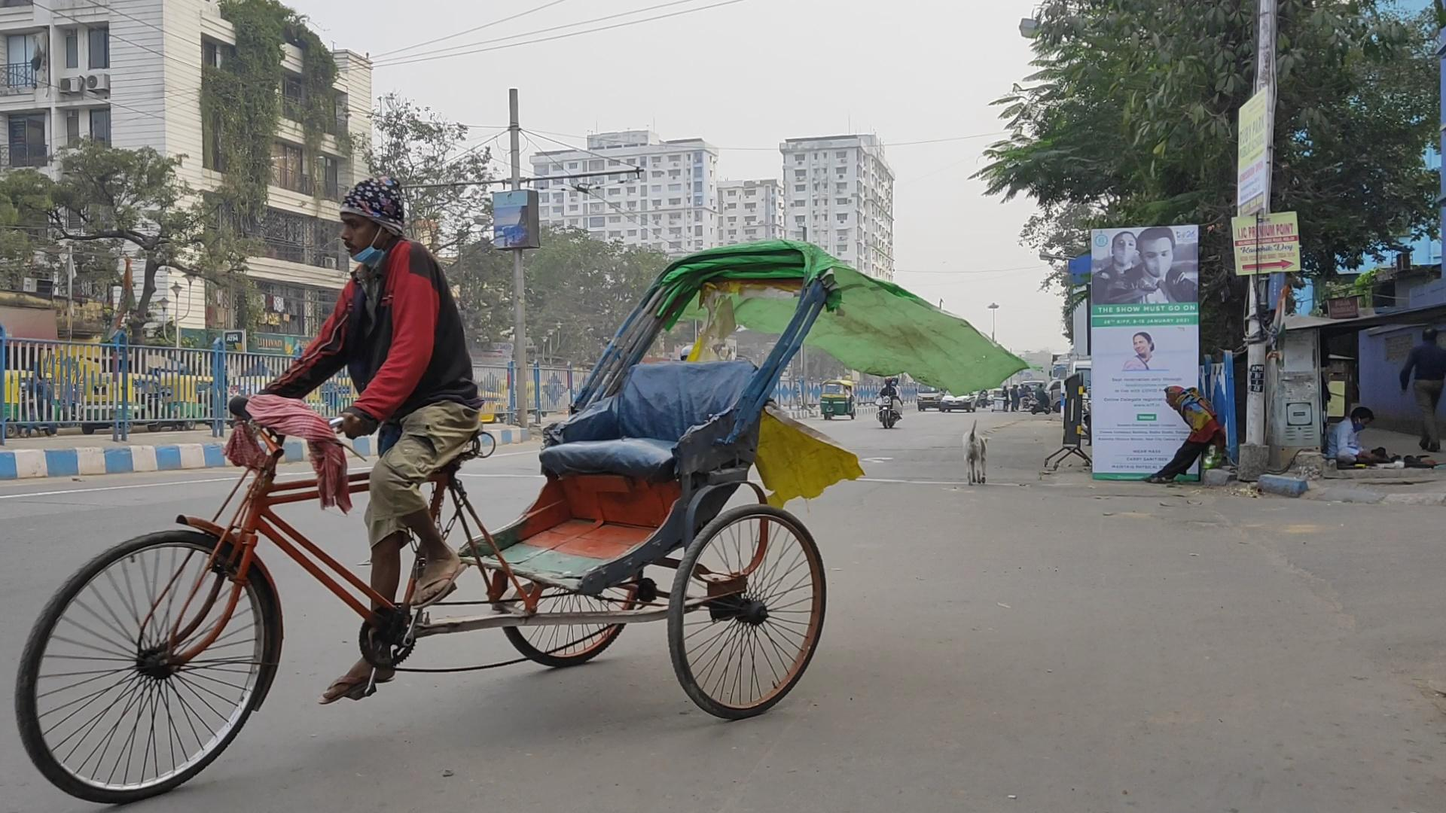Auto: (817, 376, 859, 423)
bike: (876, 374, 905, 431)
car: (939, 386, 976, 413), (1020, 379, 1048, 409)
van: (917, 378, 948, 412)
